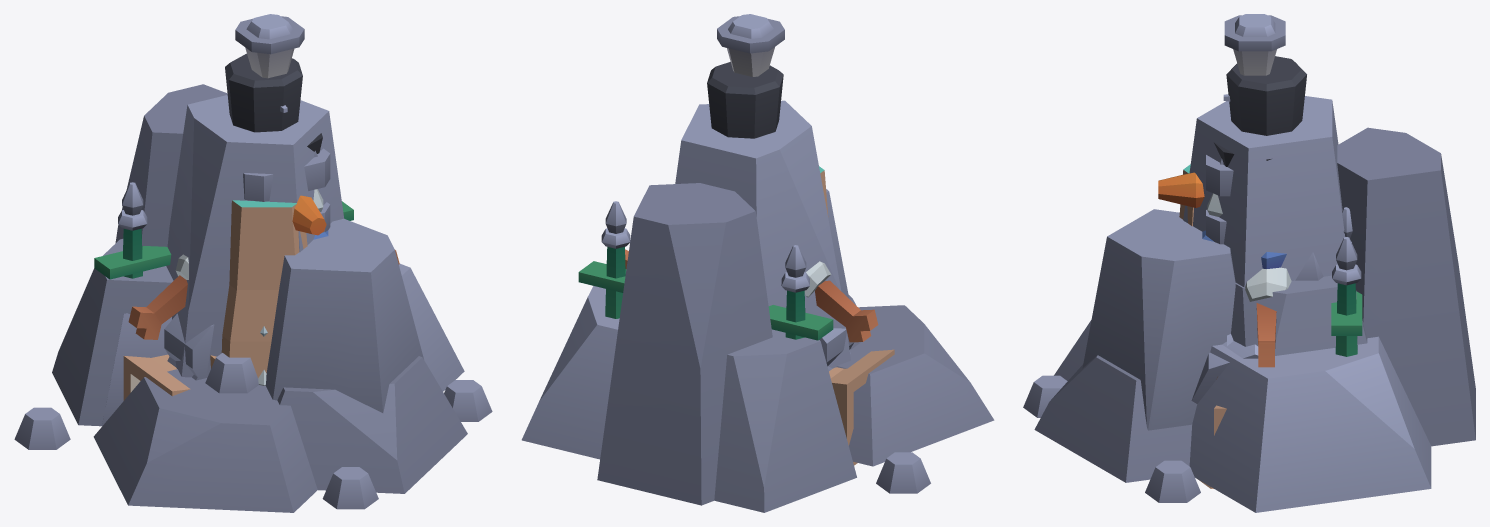
File: obstacle-props.glb
3 views of the same model, side by side, from view 1: azimuth 30°, elevation 25°; view 2: azimuth 150°, elevation 25°; view 3: azimuth 270°, elevation 25° (orthographic).
Visible parts, largest first — view 1: rock-large, rock-wide, rock_tallA, snowman-hat, iron-fence, lantern, pillar-square, gravestone-wide, log_large; view 2: rock-large, rock-wide, snowman-hat, iron-fence, lantern, log_large, gravestone-wide; view 3: rock-large, rock-wide, snowman-hat, iron-fence, lantern, pillar-square, wheel.
Boxes of the visible parts, x1,y1,x2,y2 form: rock-large: (14, 95, 492, 512); rock-wide: (102, 84, 467, 493); rock_tallA: (221, 200, 307, 378); snowman-hat: (128, 53, 399, 385); iron-fence: (94, 182, 353, 279); lantern: (235, 14, 304, 112); pillar-square: (243, 148, 330, 232); gravestone-wide: (164, 313, 214, 380); log_large: (123, 354, 190, 400); rock-large: (521, 100, 994, 512); rock-wide: (597, 183, 856, 505); snowman-hat: (625, 62, 878, 342); iron-fence: (578, 201, 833, 340); lantern: (717, 14, 784, 76); log_large: (829, 349, 894, 465); gravestone-wide: (819, 328, 854, 370); rock-large: (1023, 96, 1431, 512); rock-wide: (1034, 127, 1475, 482); snowman-hat: (1158, 56, 1306, 367); iron-fence: (1331, 207, 1362, 356); lantern: (1223, 14, 1285, 101); pillar-square: (1206, 155, 1233, 244); wheel: (1191, 341, 1258, 403).
Size of the model in its own units: 1.67 by 1.61 by 1.61.
